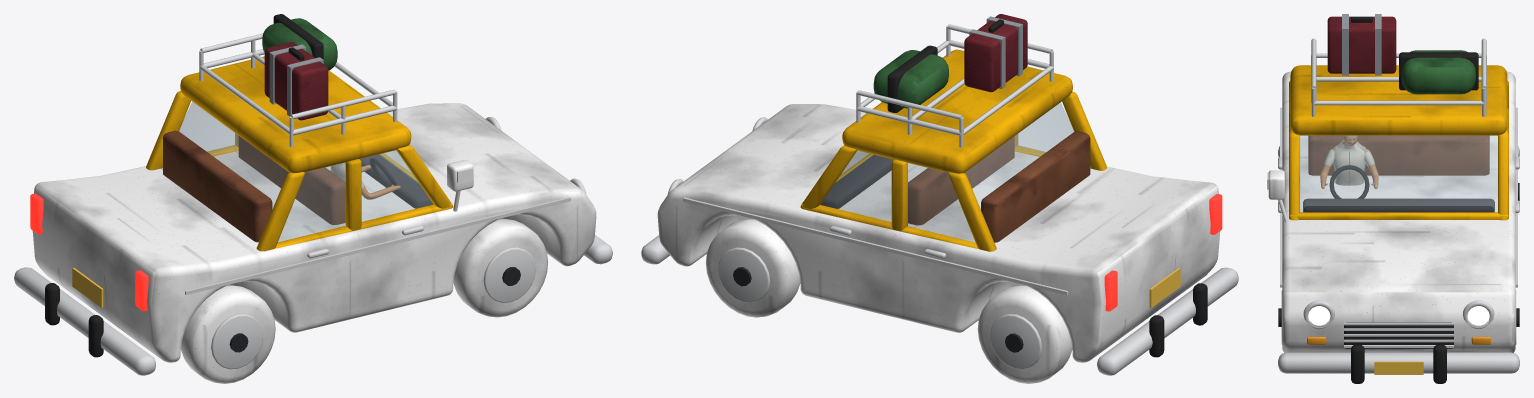
File: taxi.glb
3 renders of one model, left to right at view 1: azimuth 30°, elevation 25°; view 2: azimuth 150°, elevation 25°; view 3: azimuth 270°, elevation 25°, orthographic. The views are drawn at different scales.
Visible parts, largest first — view 1: body, roof, greenhouse, rear_seat, wheel_rr, wheel_fr, rear_bumper, front_seat, suitcase, wheel_rr_hub-1, wheel_fr_hub-1, trim-1 (+18 smaller); view 2: body, roof, greenhouse, rear_seat, wheel_fl, wheel_rl, suitcase, rear_bumper, front_seat, duffel, wheel_fl_hub1, wheel_rl_hub1 (+17 smaller); view 3: body, greenhouse, roof, front_seat, front_bumper, suitcase, dash, duffel, grille, screen_frame, torso, cross0.3 (+26 smaller).
Part boxes in pixels (x1,y1,x2,y2): body: (32,103,596,362); roof: (180,56,411,172); greenhouse: (161,102,432,241); rear_seat: (163,130,272,242); wheel_rr: (181,285,275,383); wheel_fr: (453,218,548,317); rear_bumper: (14,267,155,375); front_seat: (238,136,345,224); suitcase: (264,42,328,120); wheel_rr_hub-1: (211,313,263,369); wheel_fr_hub-1: (483,247,535,302); trim-1: (185,197,570,294); body: (657,104,1220,362); roof: (842,49,1072,173); greenhouse: (820,102,1091,242); rear_seat: (981,131,1090,242); wheel_fl: (705,219,800,317); wheel_rl: (977,285,1072,383); suitcase: (964,14,1027,92); rear_bumper: (1097,267,1238,375); front_seat: (908,136,1014,225); duffel: (873,50,948,108); wheel_fl_hub1: (718,247,770,302); wheel_rl_hub1: (990,314,1042,369); body: (1282,71,1515,352); greenhouse: (1300,136,1497,211); roof: (1290,65,1507,135); front_seat: (1308,135,1489,175); front_bumper: (1278,352,1519,373); suitcase: (1327,16,1396,73); dash: (1303,198,1494,212); duffel: (1401,50,1475,94); grille: (1344,322,1453,348); screen_frame: (1289,212,1508,219); torso: (1333,141,1366,185); cross0.3: (1314,100,1483,105).
Bounding box in the file's own units: 1.94 × 1.06 × 0.92.
29 materials, 9 textured.
